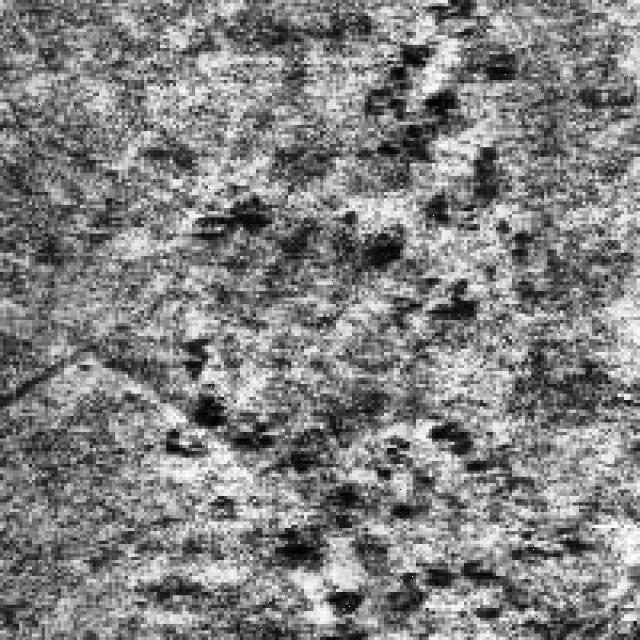Crazing: (166, 330, 493, 624), (195, 6, 496, 317)
